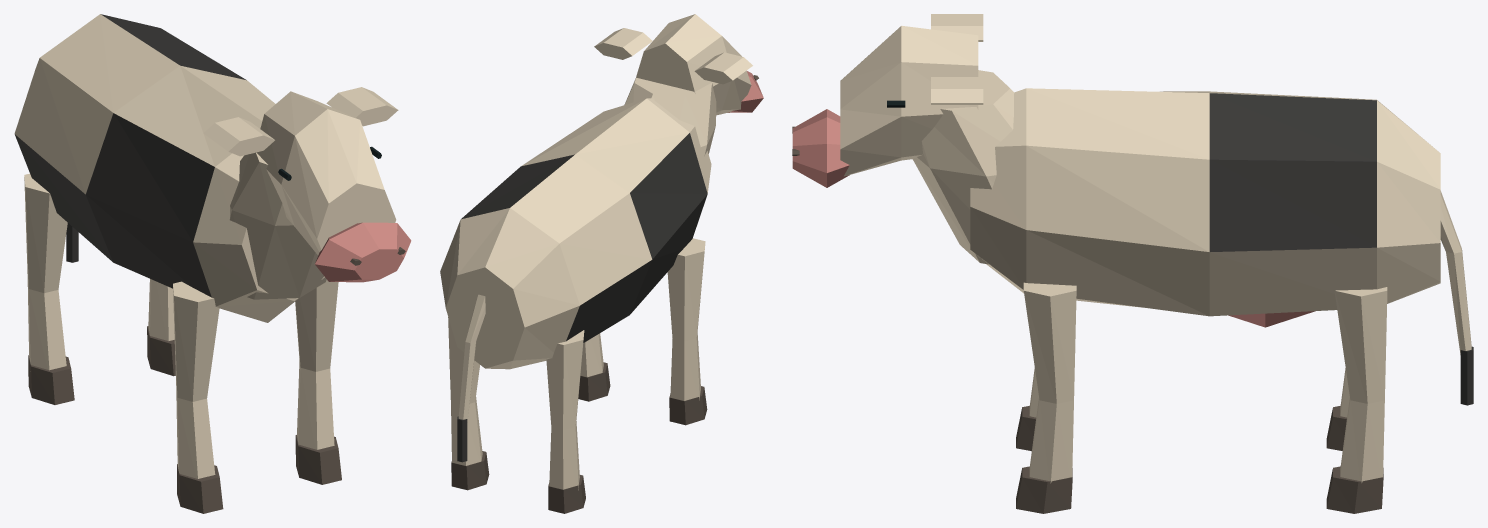
Rendered from TorusFauna_CowA.obj.
The picture shows the model from 3 angles, left to right: view 1: azimuth 30°, elevation 25°; view 2: azimuth 150°, elevation 25°; view 3: azimuth 270°, elevation 25°; orthographic projection. The views are drawn at different scales.
Visible parts, largest first — view 1: TorusFauna_CowA; view 2: TorusFauna_CowA; view 3: TorusFauna_CowA.
Boxes of the visible parts, x1,y1,x2,y2 form: TorusFauna_CowA: (14, 14, 411, 513); TorusFauna_CowA: (440, 14, 763, 513); TorusFauna_CowA: (792, 14, 1473, 513).
Size of the model in its own units: 0.215 by 0.465 by 0.6413.
Materials: 1 (1 with a texture image).
